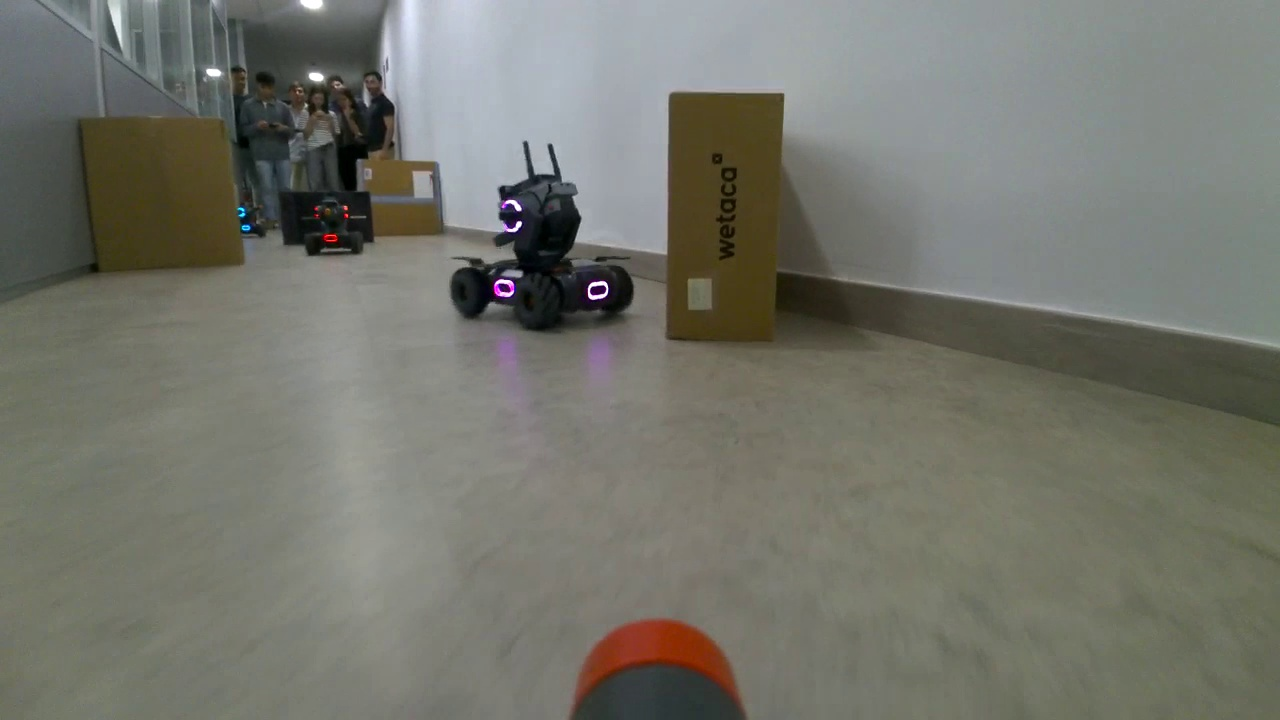robot: (448, 171, 636, 335), (305, 196, 365, 258)
